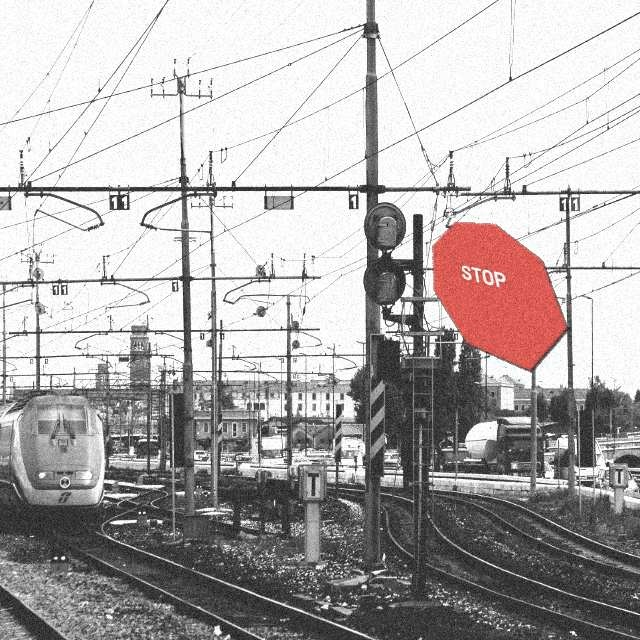STOP: (432, 221, 569, 373)
